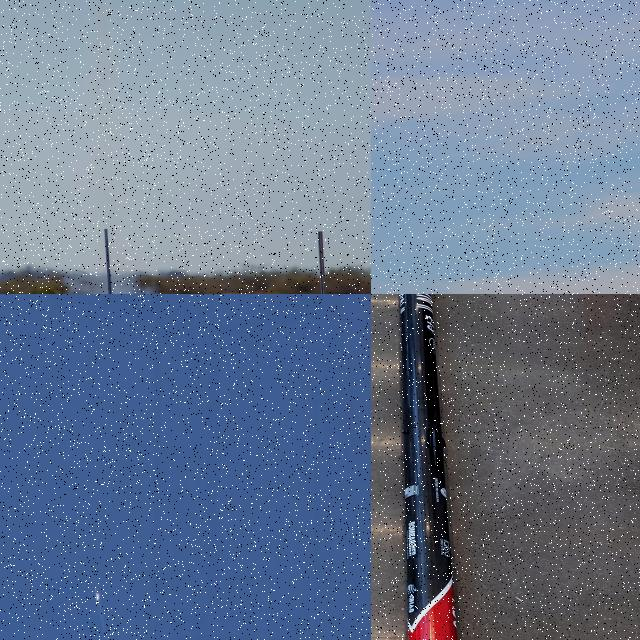Rocket: (400, 294, 458, 640), (95, 590, 100, 600)
